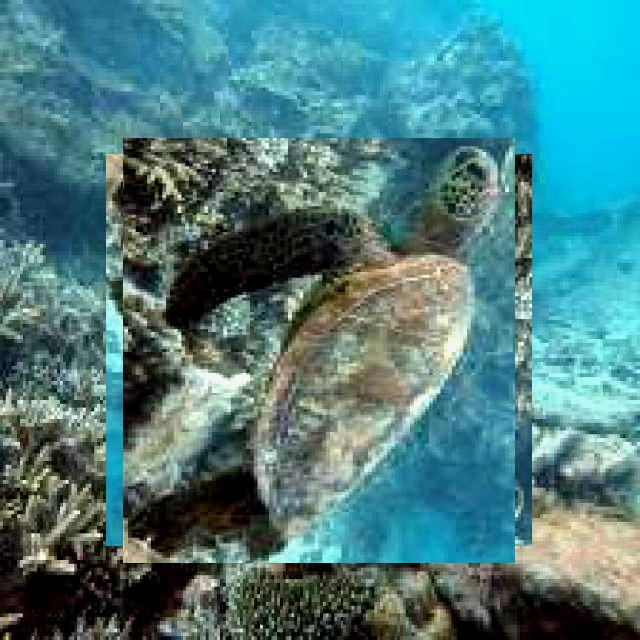Sea turtle: (114, 146, 524, 554)
